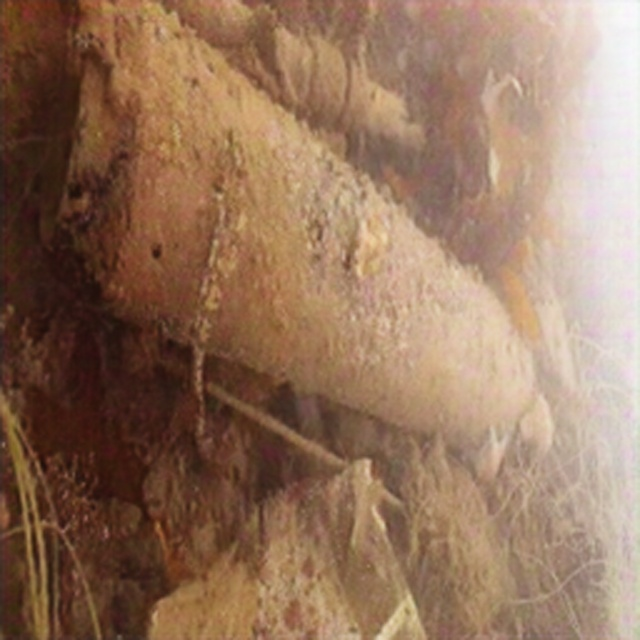mine: (57, 0, 536, 453)
